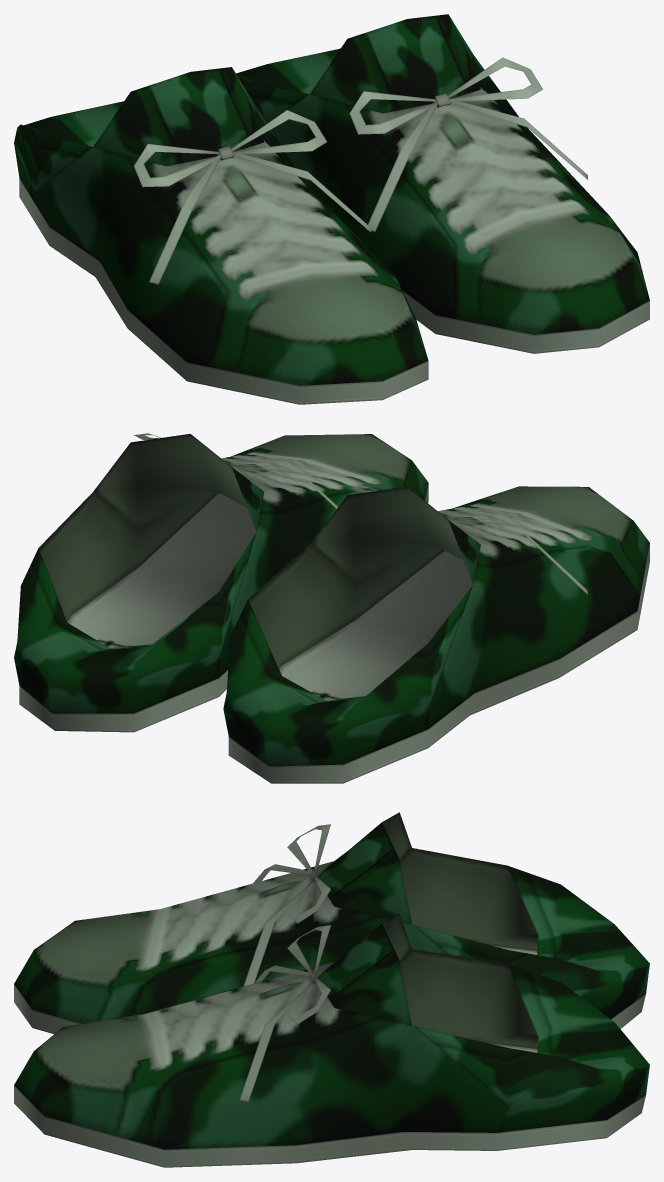
File: set_sneakers_03_b.fbx
3 renders of one model, top to bottom at view 1: azimuth 30°, elevation 25°; view 2: azimuth 150°, elevation 25°; view 3: azimuth 270°, elevation 25°, orthographic. The views are drawn at different scales.
Parts seen in each view (by area): view 1: sneakers_03_b_R, sneakers_03_b_L; view 2: sneakers_03_b_R, sneakers_03_b_L; view 3: sneakers_03_b_L, sneakers_03_b_R.
Part boxes in pixels (x1,y1,x2,y2): sneakers_03_b_R: [14, 67, 428, 404]; sneakers_03_b_L: [236, 14, 649, 353]; sneakers_03_b_R: [223, 486, 649, 783]; sneakers_03_b_L: [14, 433, 428, 732]; sneakers_03_b_L: [14, 913, 649, 1167]; sneakers_03_b_R: [14, 812, 649, 1033].
Size of the model in its own units: 19.19 by 8.05 by 24.48.
